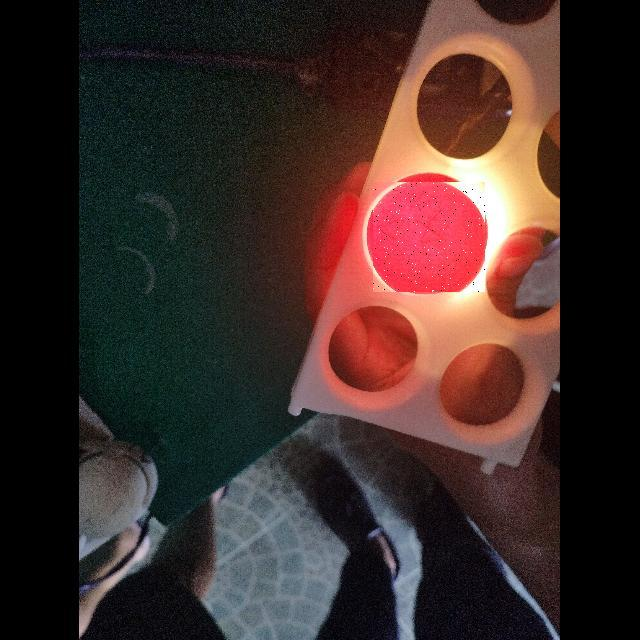Infertile: (373, 182, 485, 292)
